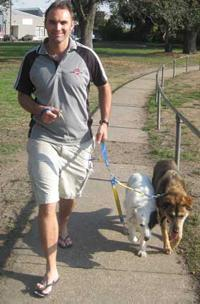person: (16, 1, 112, 295)
